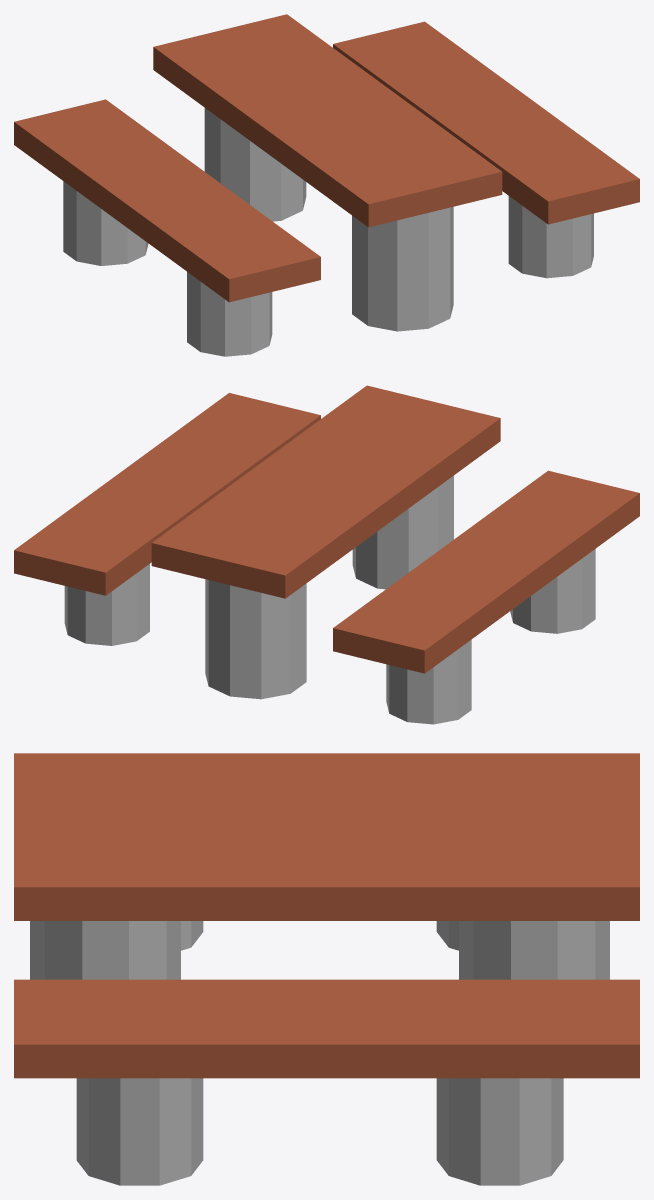
The model's file is Merendero.fbx.
3 renders of one model, top to bottom at view 1: azimuth 30°, elevation 25°; view 2: azimuth 150°, elevation 25°; view 3: azimuth 270°, elevation 25°, orthographic. The views are drawn at different scales.
Parts seen in each view (by area): view 1: Cube.003, Cylinder.003, Cylinder.002, Cylinder.005, Cylinder.001, Cylinder.004; view 2: Cube.003, Cylinder.002, Cylinder.003, Cylinder.004, Cylinder, Cylinder.005; view 3: Cube.003, Cylinder.001, Cylinder, Cylinder.002, Cylinder.003.
Boxes of the visible parts, x1,y1,x2,y2 form: Cube.003: (14,14,639,302); Cylinder.003: (352,206,453,331); Cylinder.002: (204,108,306,221); Cylinder.005: (187,272,272,356); Cylinder.001: (508,196,593,278); Cylinder.004: (63,181,148,265); Cube.003: (14,385,639,673); Cylinder.002: (205,579,306,699); Cylinder.003: (352,475,453,589); Cylinder.004: (386,639,471,724); Cylinder: (64,564,149,645); Cylinder.005: (510,549,595,633); Cube.003: (14,753,639,1078); Cylinder.001: (76,1078,203,1185); Cylinder: (436,1078,563,1185); Cylinder.002: (459,921,609,979); Cylinder.003: (30,921,180,979).
Bounding box in the file's own units: 1088 × 366 × 987.
